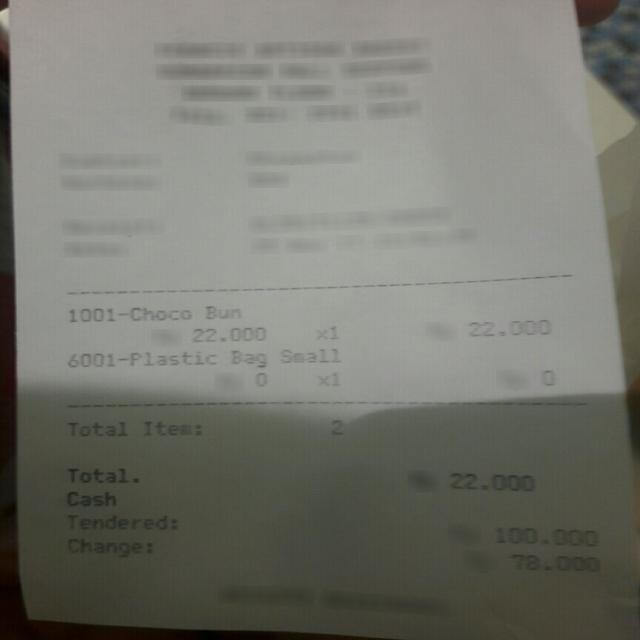kertas: (13, 1, 638, 640)
